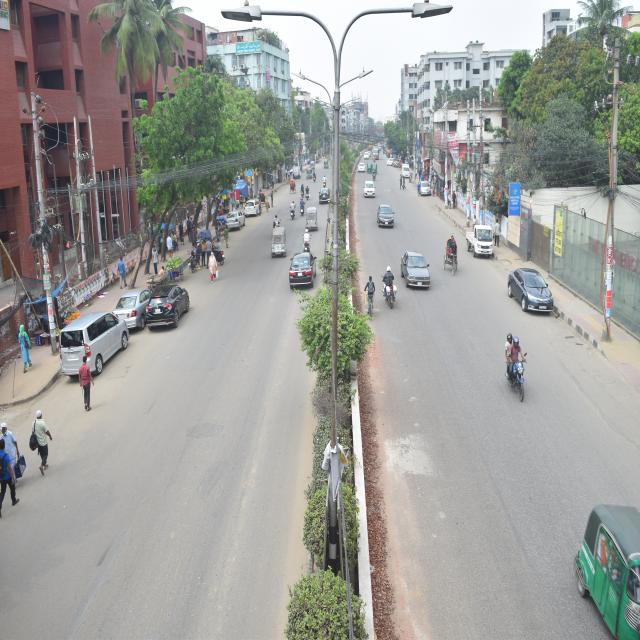car: (46, 292, 129, 378), (146, 267, 193, 339), (501, 253, 550, 312), (393, 237, 434, 305), (116, 272, 161, 329), (284, 239, 320, 300), (218, 190, 252, 238), (378, 203, 402, 238), (244, 191, 262, 231), (363, 179, 385, 207), (415, 170, 431, 202), (317, 186, 334, 216), (354, 159, 366, 179), (362, 150, 372, 166)
motorbike: (494, 317, 532, 399), (208, 227, 228, 271), (379, 258, 395, 308), (302, 175, 314, 210), (300, 220, 310, 250), (288, 197, 296, 230), (320, 169, 329, 196), (297, 192, 305, 220), (298, 178, 306, 202)
pickup-van: (456, 196, 494, 268), (402, 161, 414, 182)
